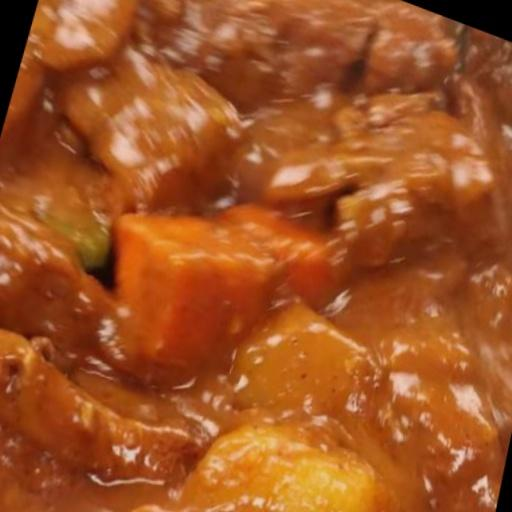pork caldereta: (0, 0, 511, 511)
